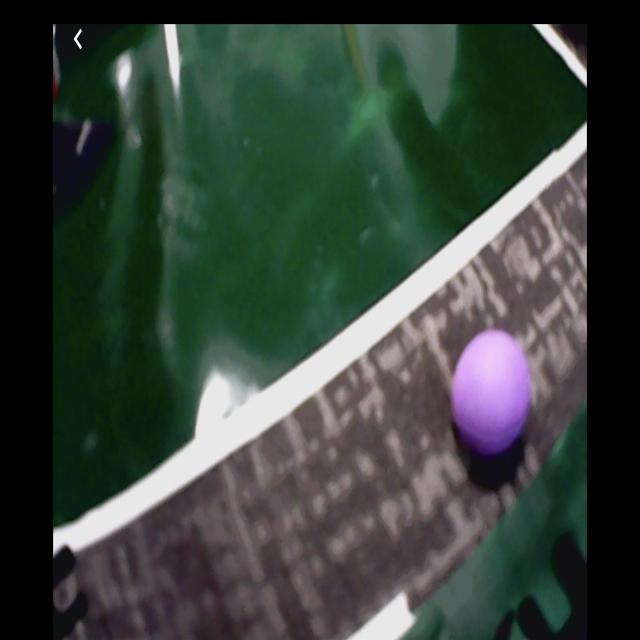ball: (453, 333, 530, 458)
